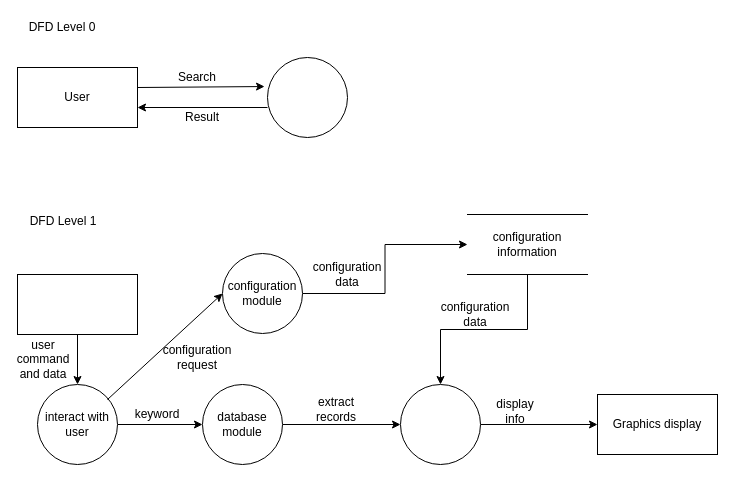
Image size: 735x482. Some labels were removed from this diagram. The shapes that lost their labels are listed below. From the top down, each one's centre as x and y in pixels, then its label:
At point (307, 97): "SA system".
At point (77, 304): "Web page".
At point (440, 424): "display result".
